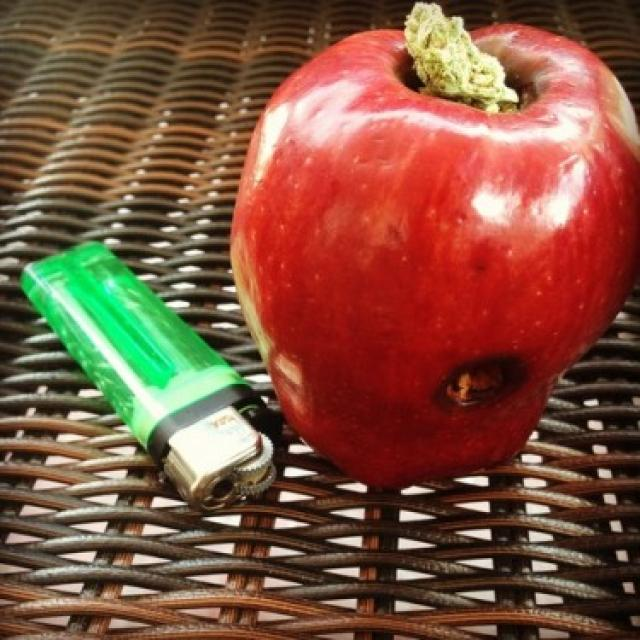apple: (225, 20, 640, 490)
